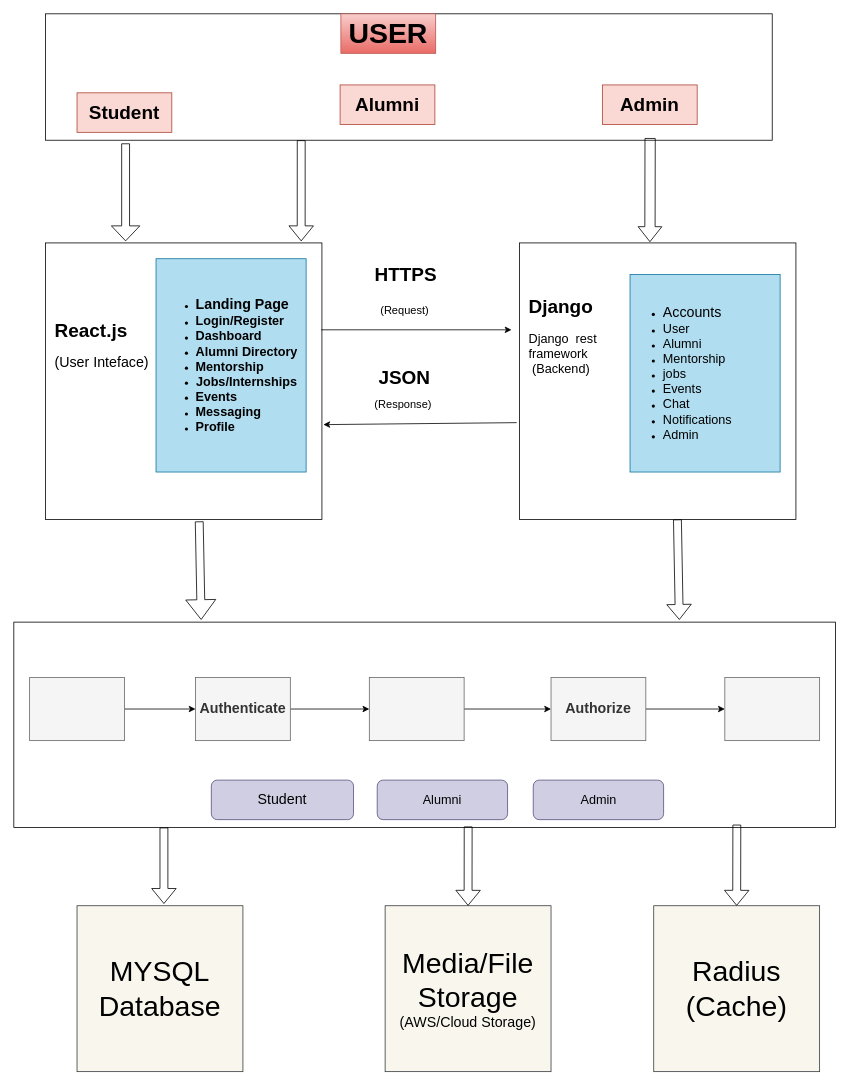
The diagram is 849 pixels wide and 1085 high, and some of its shapes have lost their labels. Each missing label, with the centre of its shape:
"Access Granted" belongs at [772,709].
"Generate Token" belongs at [416,709].
"Register/Login" belongs at [76,709].
